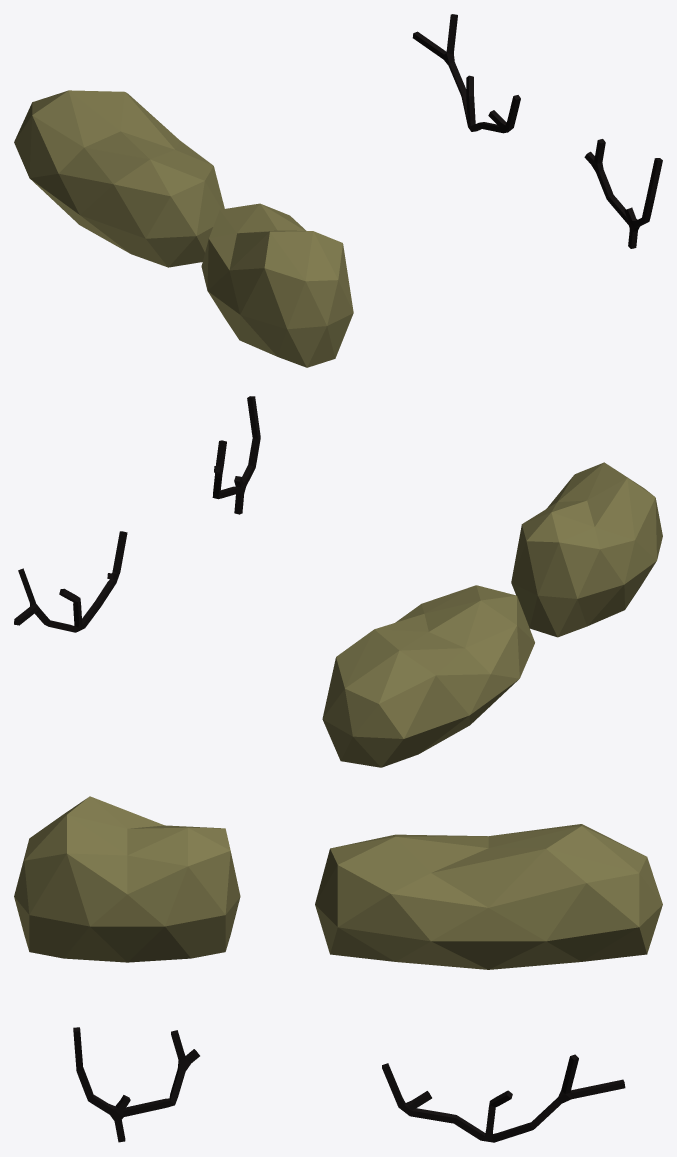
The model's file is modelo_cerrado_arbustos.fbx.
3 renders of one model, top to bottom at view 1: azimuth 30°, elevation 25°; view 2: azimuth 150°, elevation 25°; view 3: azimuth 270°, elevation 25°, orthographic. The views are drawn at different scales.
Parts seen in each view (by area): view 1: Cerrado Arbusto 2, Cerrado Arbusto 1, Cerrado Arbusto Morto 2, Cerrado Arbusto Morto 1; view 2: Cerrado Arbusto 2, Cerrado Arbusto 1, Cerrado Arbusto Morto 2, Cerrado Arbusto Morto 1; view 3: Cerrado Arbusto 2, Cerrado Arbusto 1, Cerrado Arbusto Morto 2, Cerrado Arbusto Morto 1.
Part boxes in pixels (box(x1,y1,x2,y2)): Cerrado Arbusto 2: box(14, 90, 224, 267); Cerrado Arbusto 1: box(201, 203, 353, 367); Cerrado Arbusto Morto 2: box(412, 14, 520, 133); Cerrado Arbusto Morto 1: box(584, 139, 662, 248); Cerrado Arbusto 2: box(322, 585, 534, 767); Cerrado Arbusto 1: box(511, 462, 662, 637); Cerrado Arbusto Morto 2: box(14, 531, 127, 632); Cerrado Arbusto Morto 1: box(212, 396, 260, 514); Cerrado Arbusto 2: box(315, 824, 662, 969); Cerrado Arbusto 1: box(14, 796, 240, 962); Cerrado Arbusto Morto 2: box(382, 1054, 625, 1142); Cerrado Arbusto Morto 1: box(73, 1027, 199, 1142).
Size of the model in its own units: 398 by 102 by 444.
